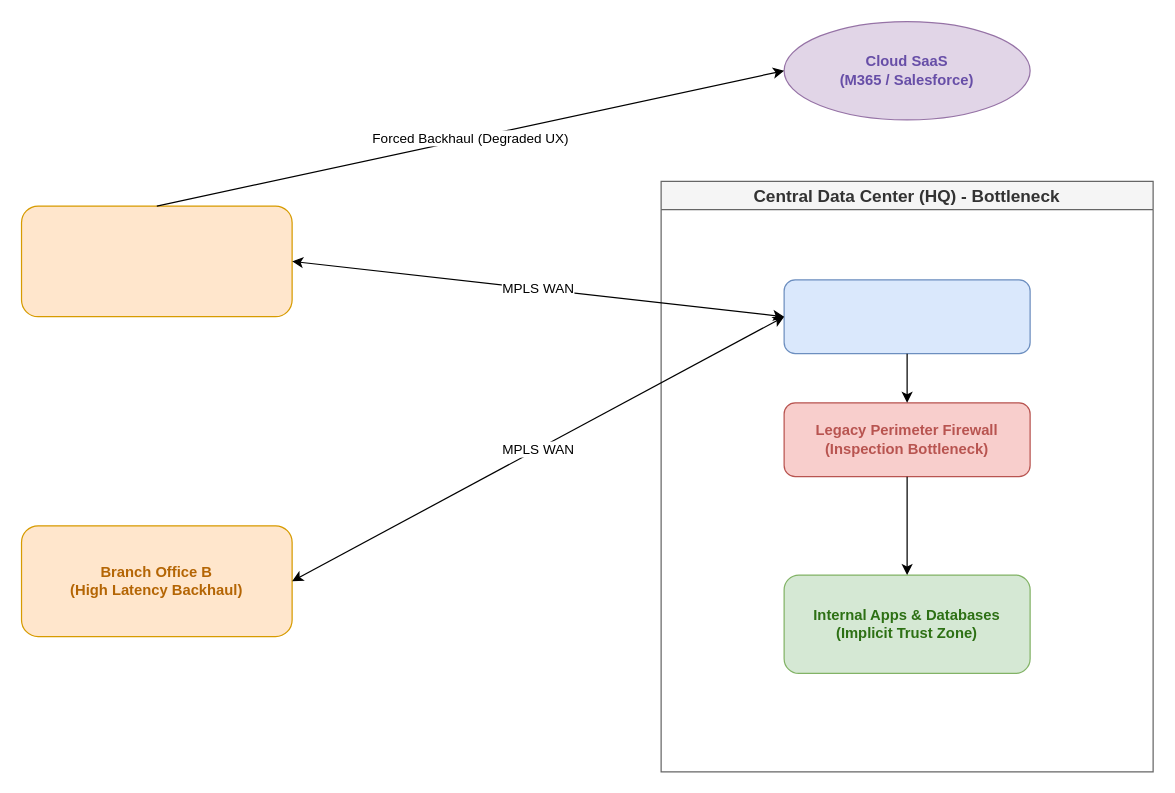
Image size: 1175x793. Some labels were removed from this diagram. The shapes that lost their labels are listed below. From the top down, each one's centre as x and y in pixels, then its label:
point 156,261: Branch Office A (Expensive MPLS Link)
point 906,316: Core MPLS Router
